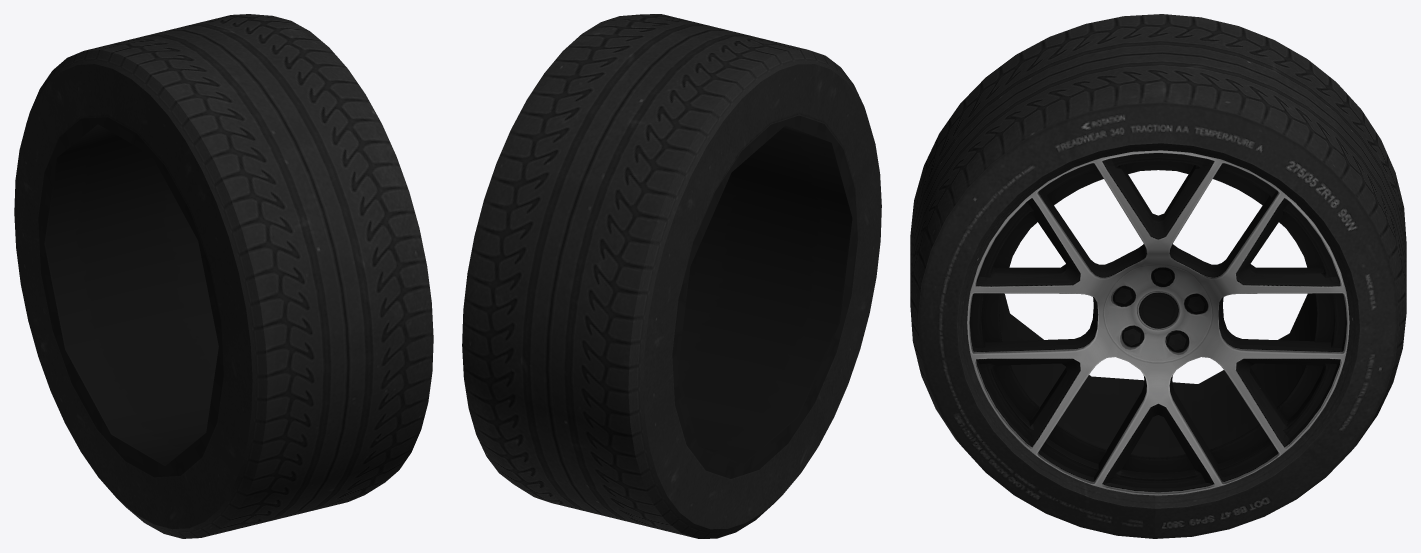
The model's file is RMCarDemoWheel.FBX.
The picture shows the model from 3 angles, left to right: view 1: azimuth 30°, elevation 25°; view 2: azimuth 150°, elevation 25°; view 3: azimuth 270°, elevation 25°; orthographic projection.
Visible parts, largest first — view 1: RMCarDemo_Wheel_LOD0; view 2: RMCarDemo_Wheel_LOD0; view 3: RMCarDemo_Wheel_LOD0.
Part boxes in pixels (<box>): RMCarDemo_Wheel_LOD0: <box>14,14,433,538</box>; RMCarDemo_Wheel_LOD0: <box>462,14,881,538</box>; RMCarDemo_Wheel_LOD0: <box>910,14,1406,538</box>.
Size of what is drawn, in the model's own units: 324 by 733 by 733.
